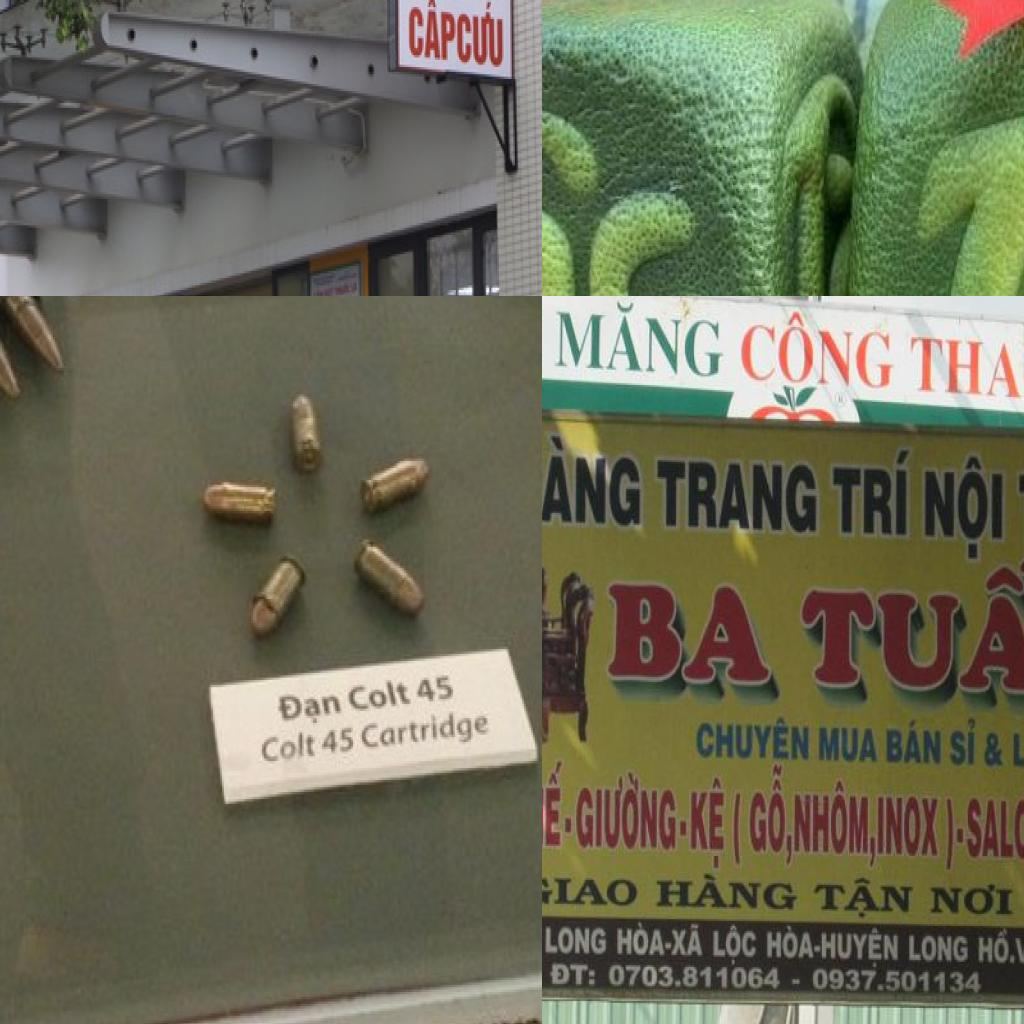text: (542, 93, 728, 296), (793, 552, 1024, 712), (596, 573, 778, 694), (553, 296, 725, 385), (649, 454, 823, 540), (740, 305, 894, 392), (542, 419, 644, 533), (919, 446, 1009, 566), (906, 327, 1024, 409), (827, 441, 917, 547), (576, 767, 679, 856), (407, 0, 510, 79), (657, 868, 800, 919), (691, 711, 813, 767), (607, 958, 782, 994), (794, 778, 870, 858), (812, 967, 986, 998), (812, 873, 915, 923), (748, 762, 794, 860), (542, 866, 640, 912), (876, 793, 940, 861), (688, 774, 730, 873), (818, 921, 902, 970), (966, 793, 1024, 863), (269, 682, 353, 730), (926, 881, 1018, 921), (885, 711, 946, 769), (342, 675, 422, 718), (258, 723, 320, 770), (816, 721, 882, 764), (542, 920, 608, 960), (905, 928, 971, 968), (542, 752, 567, 851), (711, 921, 759, 969), (763, 921, 817, 963), (614, 919, 666, 960), (412, 670, 460, 711), (549, 958, 598, 992), (670, 918, 706, 964), (949, 711, 978, 767), (730, 788, 748, 870), (976, 928, 1012, 968), (322, 723, 359, 761), (941, 793, 956, 873), (984, 730, 1008, 769), (1010, 721, 1024, 772), (868, 836, 877, 872), (786, 834, 794, 866)
